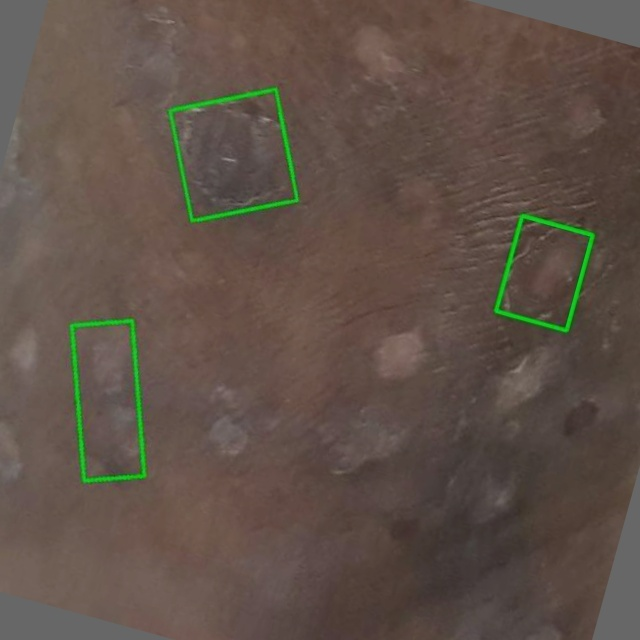Contact Dermatitis: (170, 89, 297, 221), (72, 321, 145, 480), (495, 215, 592, 330)
